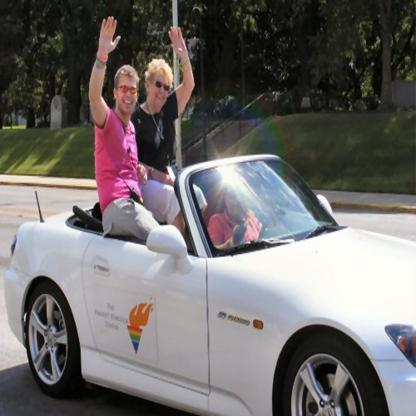Car: (4, 153, 416, 416)
